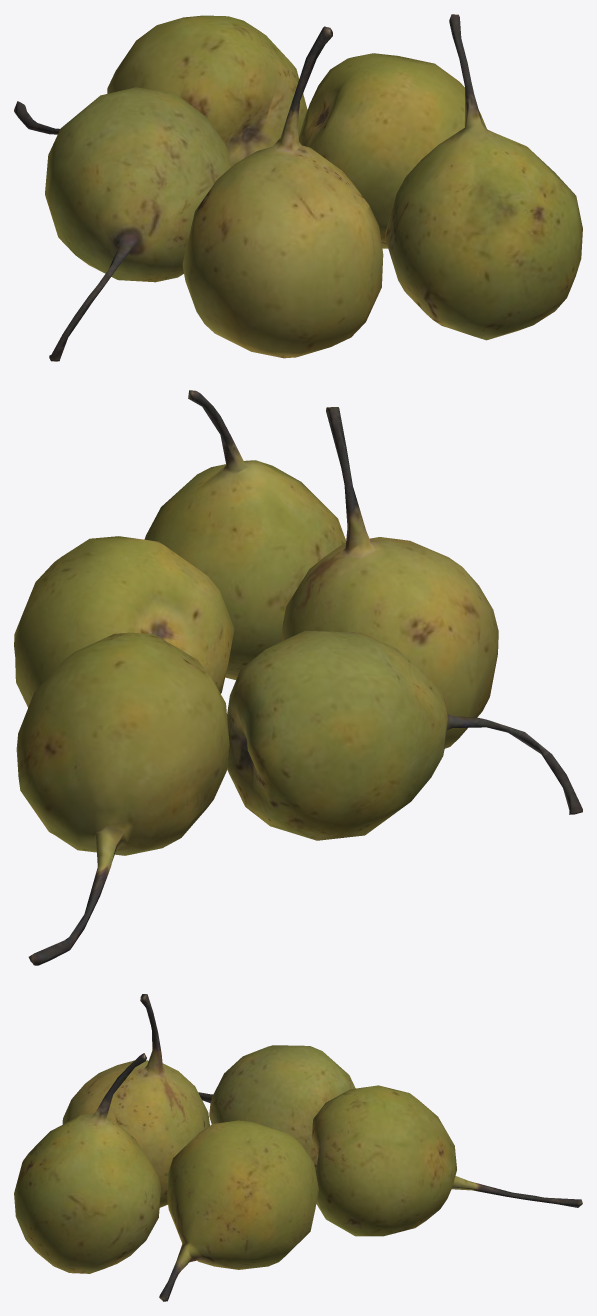
Rendered from food_pears_asian_01.lod1.glb.
The picture shows the model from 3 angles, top to bottom: view 1: azimuth 30°, elevation 25°; view 2: azimuth 150°, elevation 25°; view 3: azimuth 270°, elevation 25°; orthographic projection. The views are drawn at different scales.
Parts seen in each view (by area): view 1: food_pears_asian_01_c, food_pears_asian_01_e, food_pears_asian_01_a, food_pears_asian_01_d, food_pears_asian_01_b; view 2: food_pears_asian_01_b, food_pears_asian_01_a, food_pears_asian_01_c, food_pears_asian_01_e, food_pears_asian_01_d; view 3: food_pears_asian_01_d, food_pears_asian_01_b, food_pears_asian_01_e, food_pears_asian_01_a, food_pears_asian_01_c.
Part boxes in pixels (<box>): food_pears_asian_01_c: <box>182,26,383,358</box>; food_pears_asian_01_e: <box>385,14,582,340</box>; food_pears_asian_01_a: <box>45,87,231,361</box>; food_pears_asian_01_d: <box>298,53,486,248</box>; food_pears_asian_01_b: <box>14,15,307,166</box>; food_pears_asian_01_b: <box>16,632,229,965</box>; food_pears_asian_01_a: <box>227,630,582,840</box>; food_pears_asian_01_c: <box>282,407,498,748</box>; food_pears_asian_01_e: <box>144,390,346,679</box>; food_pears_asian_01_d: <box>14,536,234,707</box>; food_pears_asian_01_d: <box>159,1120,318,1301</box>; food_pears_asian_01_b: <box>311,1085,582,1236</box>; food_pears_asian_01_e: <box>14,1053,161,1273</box>; food_pears_asian_01_a: <box>198,1045,355,1170</box>; food_pears_asian_01_c: <box>62,994,209,1207</box>.
Size of the model in its own units: 0.1261 by 0.0711 by 0.1667.
Materials: 1 (1 with a texture image).
